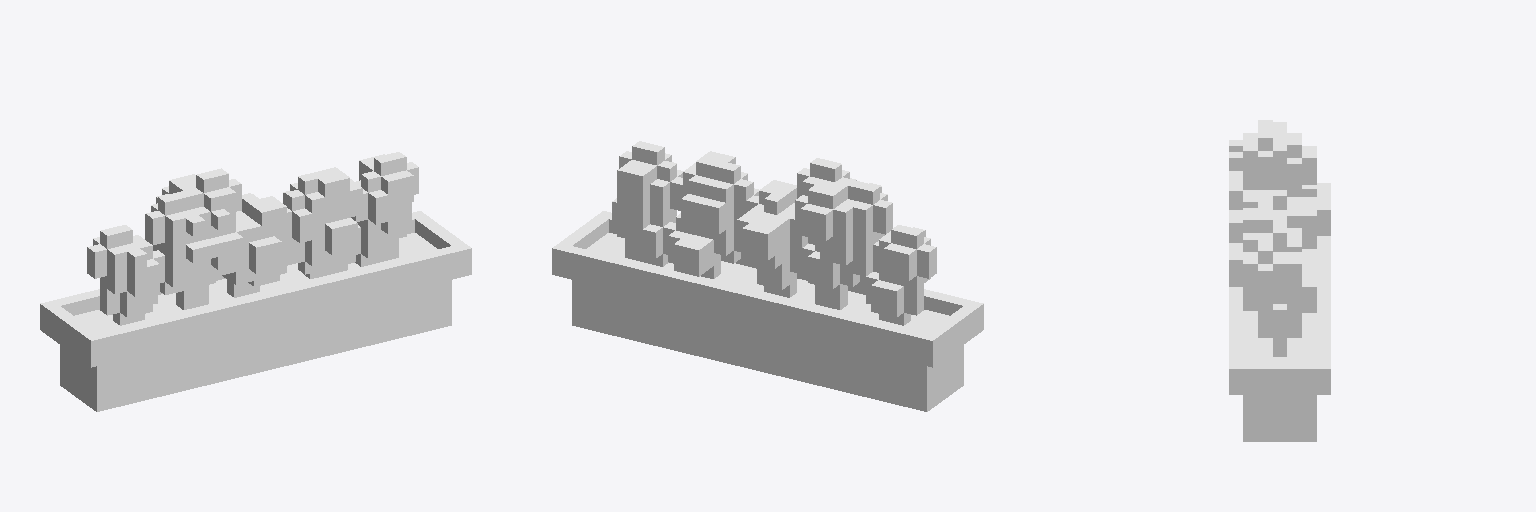
The model's file is long-planter.obj.
The picture shows the model from 3 angles: view 1: azimuth 30°, elevation 25°; view 2: azimuth 150°, elevation 25°; view 3: azimuth 270°, elevation 25°; orthographic projection.
Parts seen in each view (by area): view 1: object 1; view 2: object 1; view 3: object 1.
Part boxes in pixels (x1,y1,x2,y2): object 1: (40, 152, 471, 411); object 1: (552, 141, 983, 411); object 1: (1229, 120, 1330, 441).
Bounding box in the file's own units: 3 × 1.5 × 0.7.